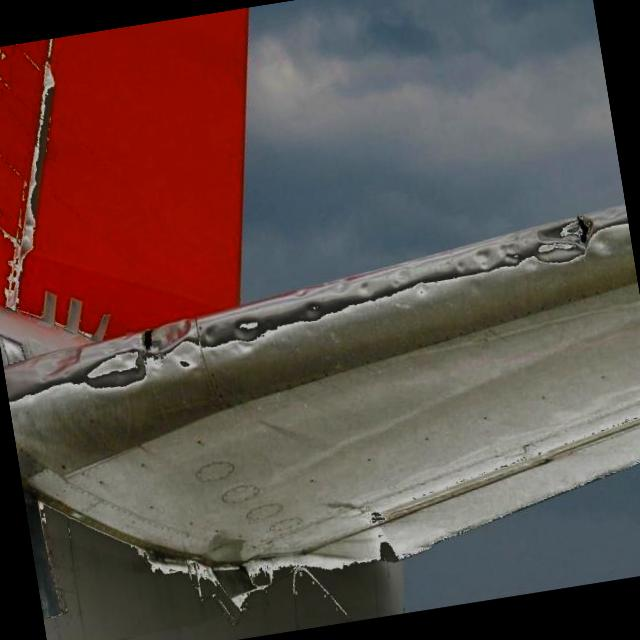dent: (23, 322, 197, 394), (531, 218, 598, 264)
